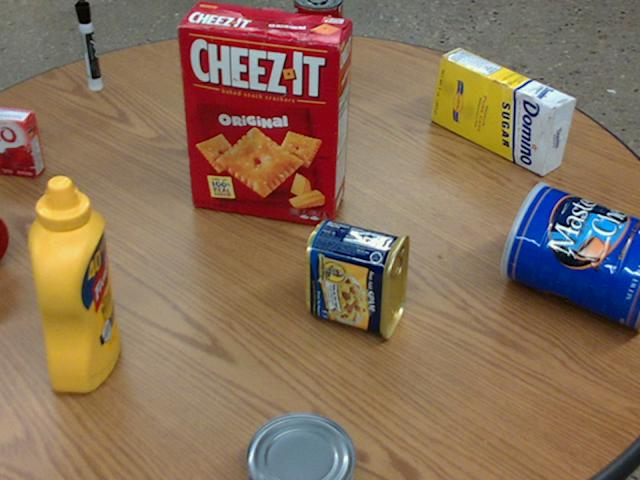cracker_box: (178, 2, 352, 222)
gelatin_box: (0, 107, 47, 176)
large_marker: (76, 0, 102, 89)
master_chef_can: (500, 182, 639, 330)
mug: (0, 214, 11, 263)
mustard_bottle: (29, 175, 121, 391)
potted_meat_can: (305, 219, 409, 339)
sugar_box: (431, 47, 577, 175)
tomato_soup_can: (294, 0, 343, 75)
tuna_fish_can: (244, 412, 354, 479)
